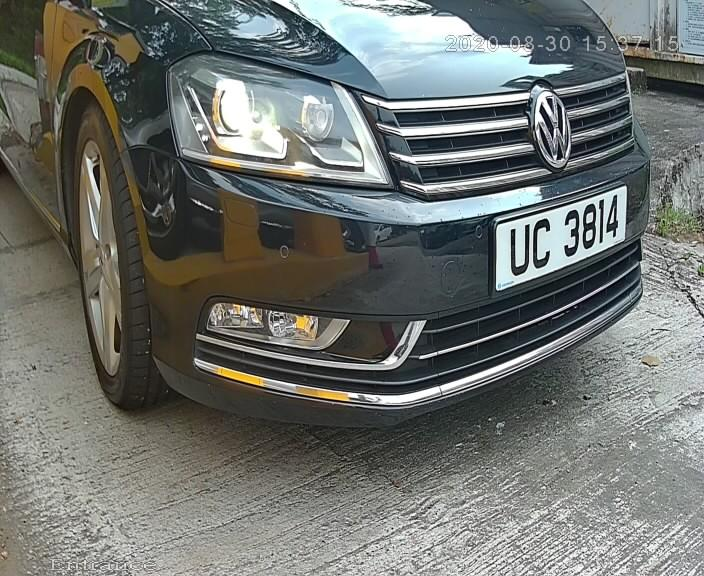License Plate: (485, 183, 632, 289)
